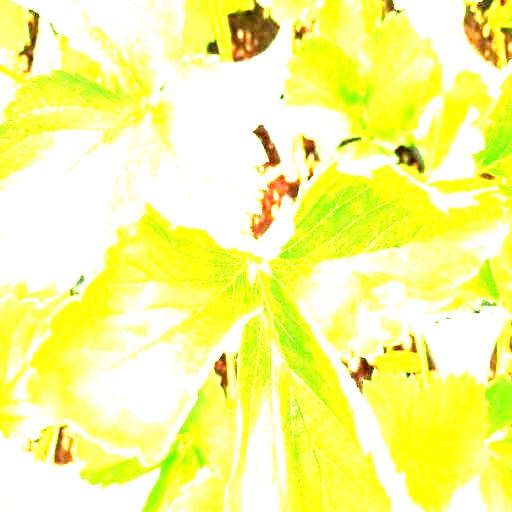Powdery Mildew Leaf: (20, 197, 263, 470), (254, 156, 509, 357), (224, 261, 409, 511), (414, 69, 492, 179), (424, 106, 488, 193)
